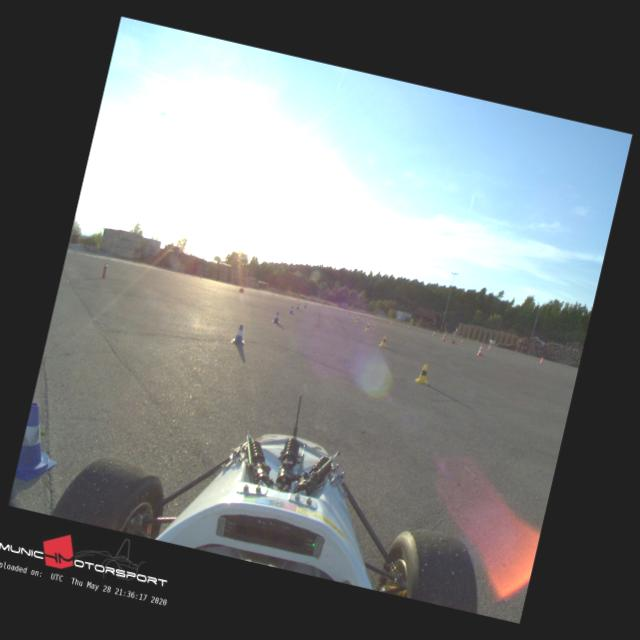blue_cone: (14, 402, 69, 486), (230, 322, 248, 345), (272, 310, 282, 324), (288, 305, 294, 314)
large_orange_cone: (476, 344, 485, 356)
yellow_cone: (414, 362, 432, 384), (378, 334, 388, 348), (364, 323, 370, 331)
